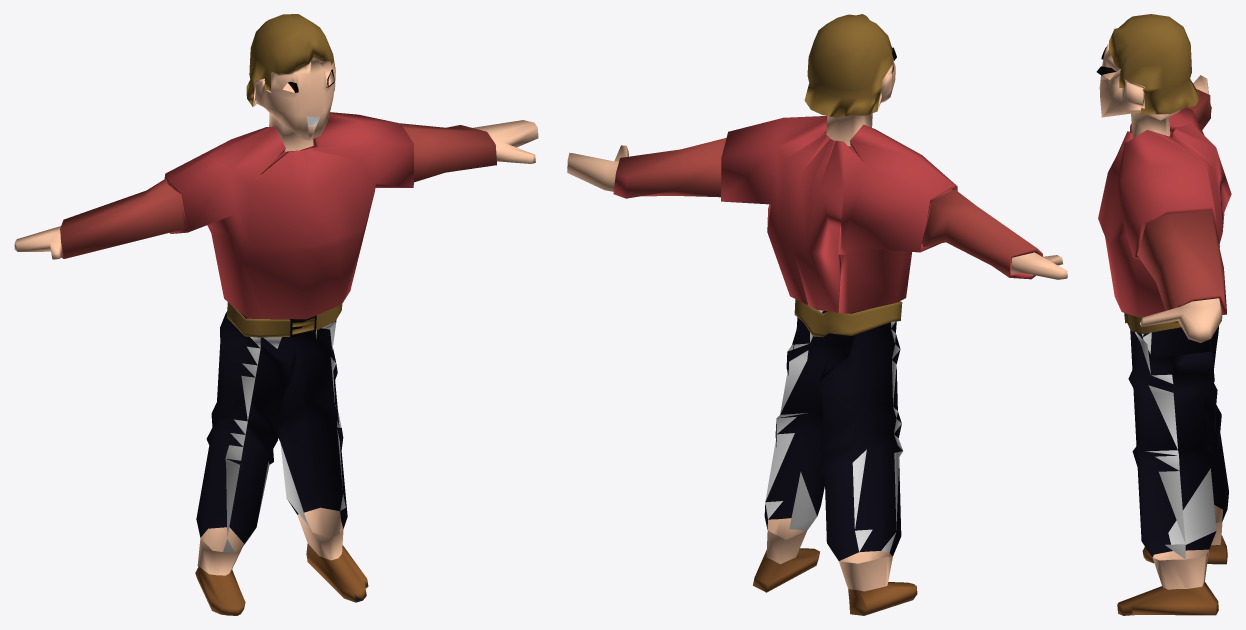
Rendered from niño.fbx.
3 renders of one model, left to right at view 1: azimuth 30°, elevation 25°; view 2: azimuth 150°, elevation 25°; view 3: azimuth 270°, elevation 25°, orthographic. The views are drawn at different scales.
Parts seen in each view (by area): view 1: Cube, Cube.004, Cube.005; view 2: Cube, Cube.004, Cube.005; view 3: Cube, Cube.004, Cube.005.
Part boxes in pixels (left/top/right/bottom): Cube: left=14, top=14, right=538, bottom=615; Cube.004: left=164, top=112, right=413, bottom=319; Cube.005: left=60, top=123, right=496, bottom=258; Cube: left=567, top=14, right=1067, bottom=615; Cube.004: left=721, top=116, right=957, bottom=313; Cube.005: left=613, top=138, right=1042, bottom=279; Cube: left=1096, top=14, right=1228, bottom=615; Cube.004: left=1098, top=107, right=1231, bottom=317; Cube.005: left=1137, top=89, right=1226, bottom=322.
Bounding box in the file's own units: 274 × 295 × 63.44.
